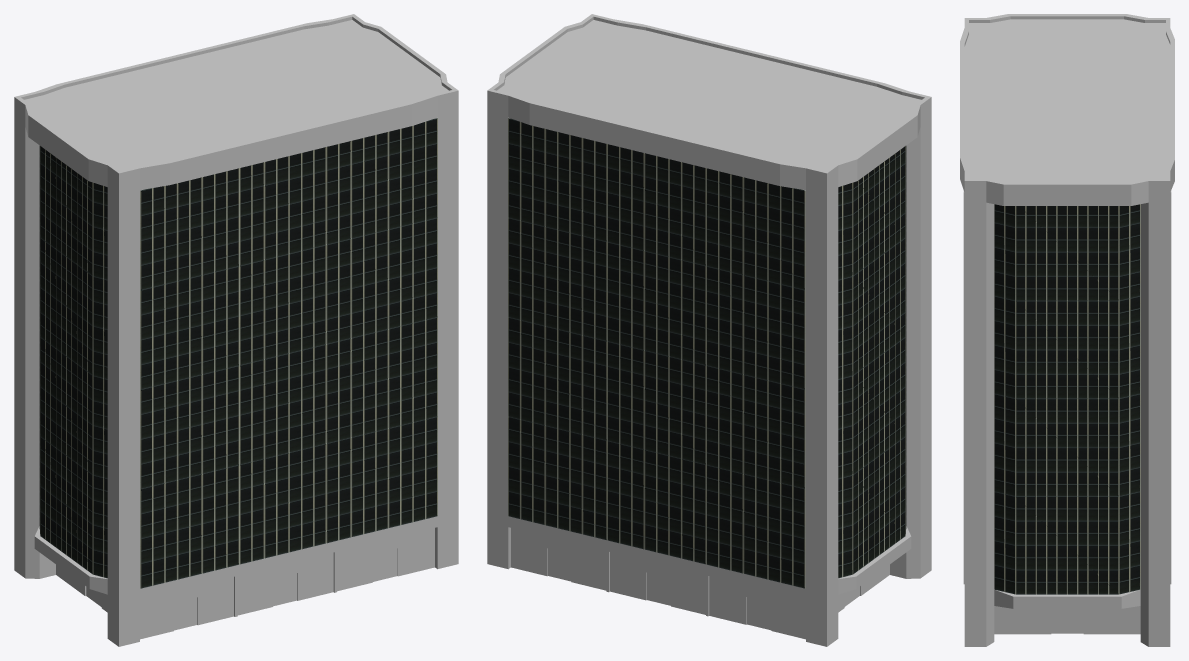
3 renders of one model, left to right at view 1: azimuth 30°, elevation 25°; view 2: azimuth 150°, elevation 25°; view 3: azimuth 270°, elevation 25°, orthographic.
Parts seen in each view (by area): view 1: BC-006; view 2: BC-006; view 3: BC-006.
Part boxes in pixels (bbox=[...]): BC-006: bbox=[14, 14, 458, 646]; BC-006: bbox=[487, 14, 931, 646]; BC-006: bbox=[960, 14, 1174, 646].
Size of what is drawn, in the model's own units: 31.36 by 39.95 by 16.7.
